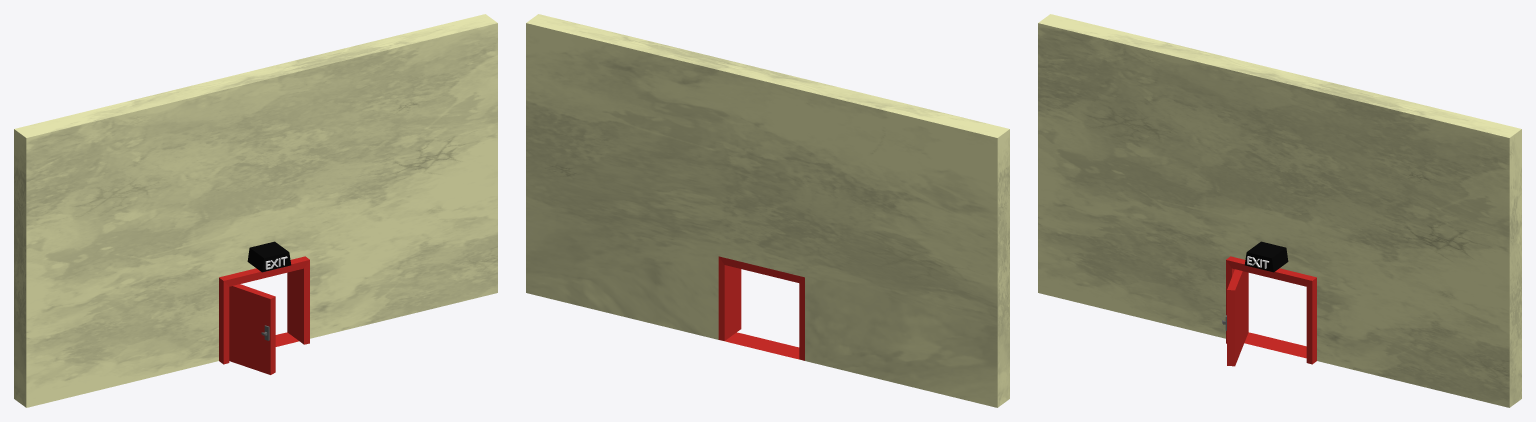
File: exit.fbx
3 views of the same model, side by side, from view 1: azimuth 30°, elevation 25°; view 2: azimuth 150°, elevation 25°; view 3: azimuth 330°, elevation 25° (orthographic).
Parts seen in each view (by area): view 1: Cube.002; view 2: Cube.002; view 3: Cube.002.
Part boxes in pixels (x1,y1,x2,y2): Cube.002: (14, 14, 497, 407); Cube.002: (526, 14, 1009, 407); Cube.002: (1038, 14, 1521, 407).
Bounding box in the file's own units: 4388 × 2401 × 645.
